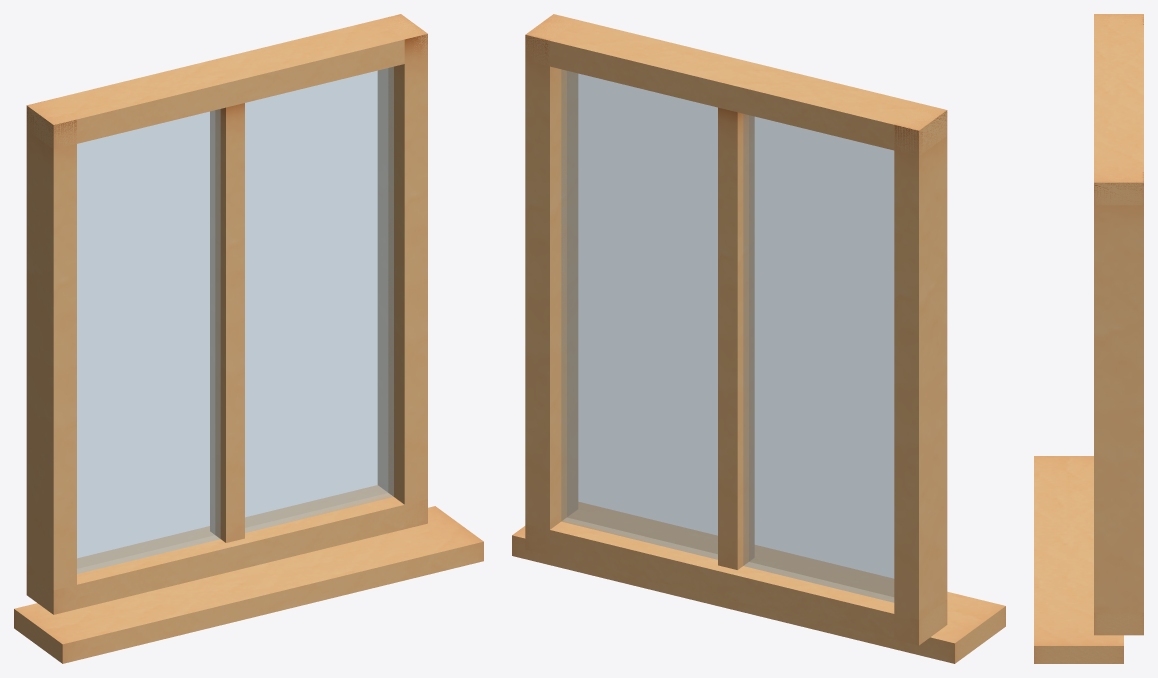
The model's file is Window.fbx.
3 renders of one model, left to right at view 1: azimuth 30°, elevation 25°; view 2: azimuth 150°, elevation 25°; view 3: azimuth 270°, elevation 25°, orthographic. The views are drawn at different scales.
Visible parts, largest first — view 1: Window; view 2: Window; view 3: Window.
Part boxes in pixels (box(x1,y1,x2,y2)): Window: box(14, 14, 483, 663); Window: box(512, 14, 1005, 663); Window: box(1034, 14, 1143, 663).
Size of the model in its own units: 0.9 by 1.04 by 0.22.
